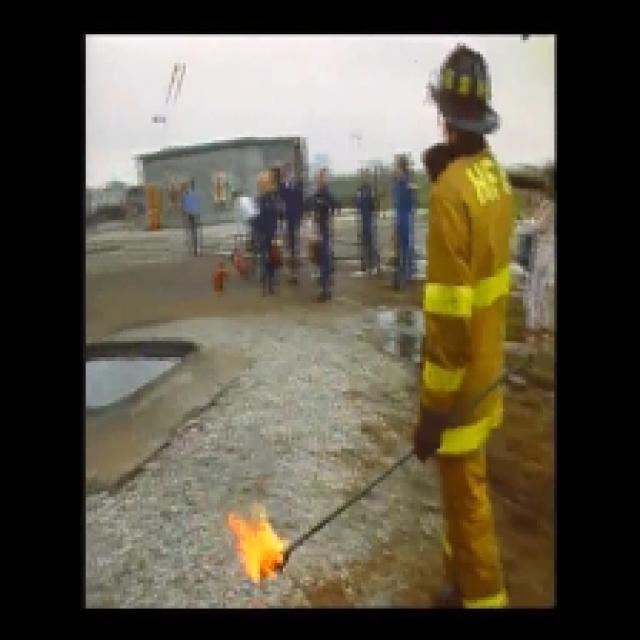Fire: (232, 508, 290, 588)
